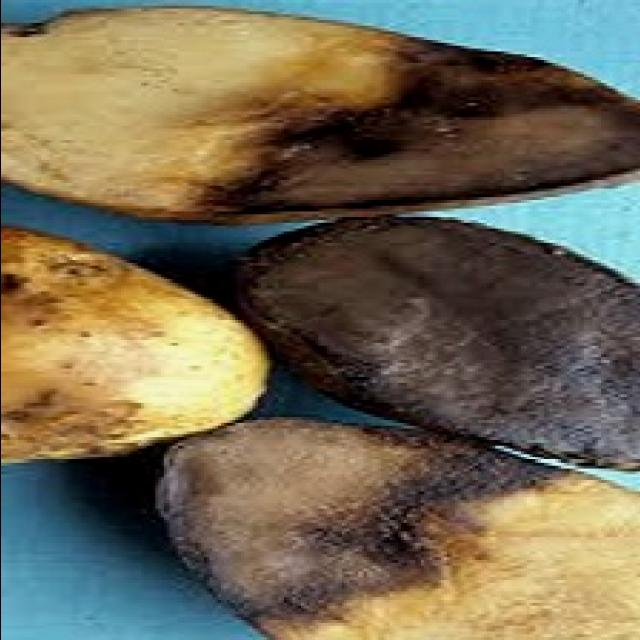pink_rot: (145, 215, 640, 640), (1, 0, 640, 231)
